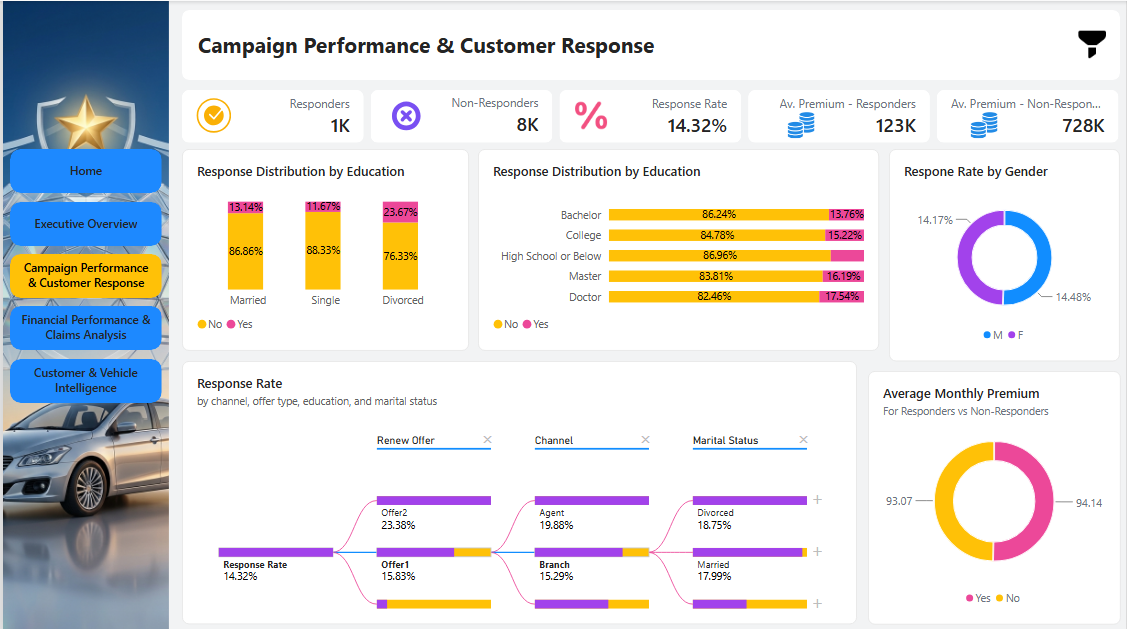

The page's visual inventory and layout, read from the dashboard file:
{"tool":"powerbi","page":{"name":"Campaign Performance & Customer Response","canvas":[1280,720],"ordinal":2},"visuals":[{"type":"image","box":[0,0,189.1,720],"z":0},{"type":"shape","box":[203.9,10.3,1068.6,79.7],"z":1000},{"type":"cardVisual","fields":{"Data":["DAX MEASURES.Responders","DAX MEASURES.Non-Responders","DAX MEASURES.Response Rate","DAX MEASURES.Av. Premium - Responders","DAX MEASURES.Av. Premium - Non-Responders"]},"box":[203.9,101.4,1069.7,60.4],"z":2000},{"type":"donutChart","title":"Average Monthly Premium","fields":{"Category":["Dim_Customers.Response"],"Y":["DAX MEASURES.Av. Monthly Premium"]},"box":[985,421.2,287.5,288.8],"z":3000},{"type":"decompositionTreeVisual","title":"Response Rate","fields":{"Analyze":["DAX MEASURES.Response Rate"],"ExplainBy":["Dim_Offers.Renew_Offer_Type","Dim_Offers.Sales_Channel","Dim_Customers.Marital_Status","Dim_Customers.Education"]},"box":[203.8,410,768.8,300],"z":4000},{"type":"hundredPercentStackedBarChart","title":"Response Distribution by Education","fields":{"Category":["Dim_Customers.Education"],"Series":["Dim_Customers.Response"],"Y":["DAX MEASURES.Customers"]},"box":[541.1,168.6,456.8,230.1],"z":5000},{"type":"textbox","box":[222.5,32.5,576.2,57.5],"z":6000},{"type":"hundredPercentStackedColumnChart","title":"Response Distribution by Education","fields":{"Category":["Dim_Customers.Marital_Status"],"Series":["Dim_Customers.Response"],"Y":["DAX MEASURES.Customers"]},"box":[203.9,168.6,327,230.1],"z":7000},{"type":"donutChart","title":"Respone Rate by Gender","fields":{"Category":["Dim_Customers.Gender"],"Y":["DAX MEASURES.Response Rate"]},"box":[1009.4,168.6,263.2,241.5],"z":8000},{"type":"image","box":[1217.8,28.5,45.6,42.2],"z":9000},{"type":"pageNavigator","box":[8,168.6,173.2,50.1],"z":11000},{"type":"pageNavigator","box":[8,229,173.2,50.1],"z":12000},{"type":"pageNavigator","box":[8,288,173.2,50.1],"z":13000},{"type":"pageNavigator","box":[8,348,173.2,50.1],"z":14000},{"type":"pageNavigator","box":[8,408,173.2,50.1],"z":15000},{"type":"image","box":[885.2,126.5,47.8,29.6],"z":15001},{"type":"image","box":[1093.7,126.5,47.8,29.6],"z":15002}]}

Visuals, with their boxes on the page's 1280x720 design canvas (x1, y1, x2, y2). These are canvas units, not pixel positions in the 1127x629 screenshot, which may show the page scaled, cropped or inside an application window:
image: crop(0, 0, 189, 720)
shape: crop(204, 10, 1272, 90)
cardVisual - DAX MEASURES.Responders x DAX MEASURES.Non-Responders: crop(204, 101, 1274, 162)
"Average Monthly Premium" donutChart: crop(985, 421, 1272, 710)
"Response Rate" decompositionTreeVisual: crop(204, 410, 973, 710)
"Response Distribution by Education" hundredPercentStackedBarChart: crop(541, 169, 998, 399)
textbox: crop(222, 32, 799, 90)
"Response Distribution by Education" hundredPercentStackedColumnChart: crop(204, 169, 531, 399)
"Respone Rate by Gender" donutChart: crop(1009, 169, 1273, 410)
image: crop(1218, 28, 1263, 71)
pageNavigator: crop(8, 169, 181, 219)
pageNavigator: crop(8, 229, 181, 279)
pageNavigator: crop(8, 288, 181, 338)
pageNavigator: crop(8, 348, 181, 398)
pageNavigator: crop(8, 408, 181, 458)
image: crop(885, 126, 933, 156)
image: crop(1094, 126, 1142, 156)
